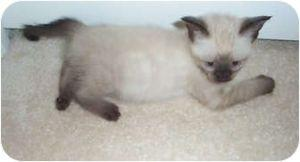siamese: (180, 4, 273, 89)
